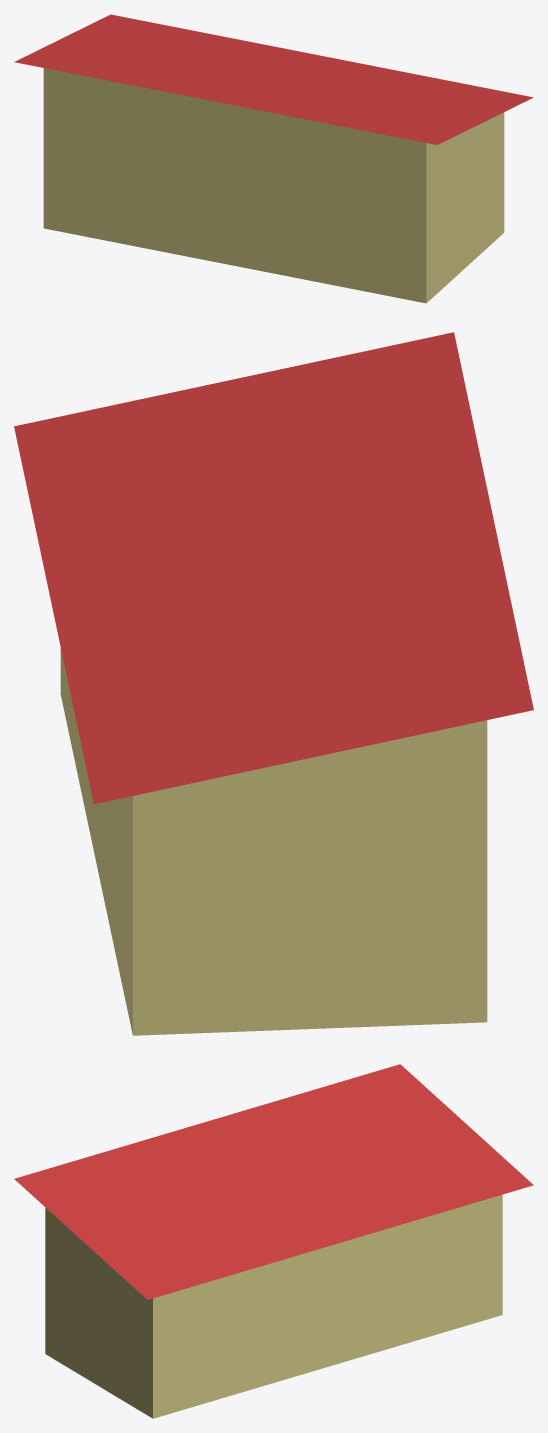
3 renders of one model, top to bottom at view 1: azimuth 30°, elevation 25°; view 2: azimuth 150°, elevation 25°; view 3: azimuth 270°, elevation 25°, orthographic. The views are drawn at different scales.
Bounding box in the file's own units: 20.41 × 22.99 × 8.44.
